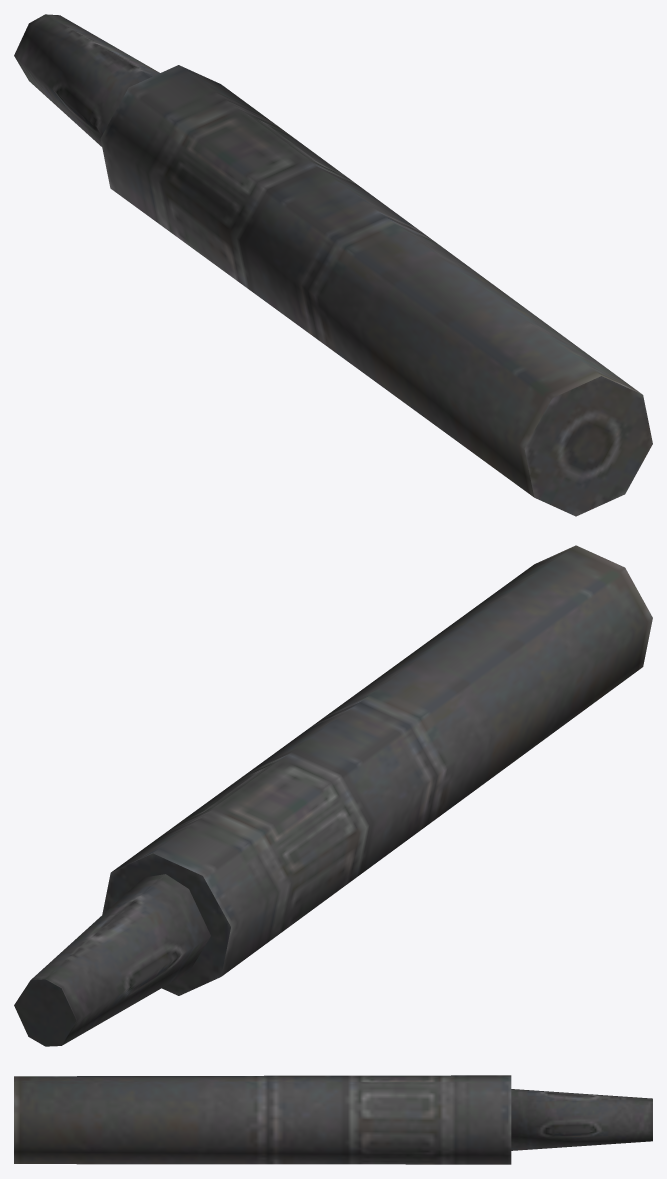
The model's file is SMG_cfq_xsq_01_lod1_Stock_LOD_(001062).glb.
The picture shows the model from 3 angles, top to bottom: view 1: azimuth 30°, elevation 25°; view 2: azimuth 150°, elevation 25°; view 3: azimuth 270°, elevation 25°; orthographic projection. The views are drawn at different scales.
Parts seen in each view (by area): view 1: cfq_xsq_01_lod1; view 2: cfq_xsq_01_lod1; view 3: cfq_xsq_01_lod1.
Boxes of the visible parts, <box> form: cfq_xsq_01_lod1: <box>14,14,652,516</box>; cfq_xsq_01_lod1: <box>14,545,652,1046</box>; cfq_xsq_01_lod1: <box>14,1075,652,1164</box>.
Bounding box in the file's own units: 0.054 × 0.054 × 0.3897.
Materials: 1 (1 with a texture image).
